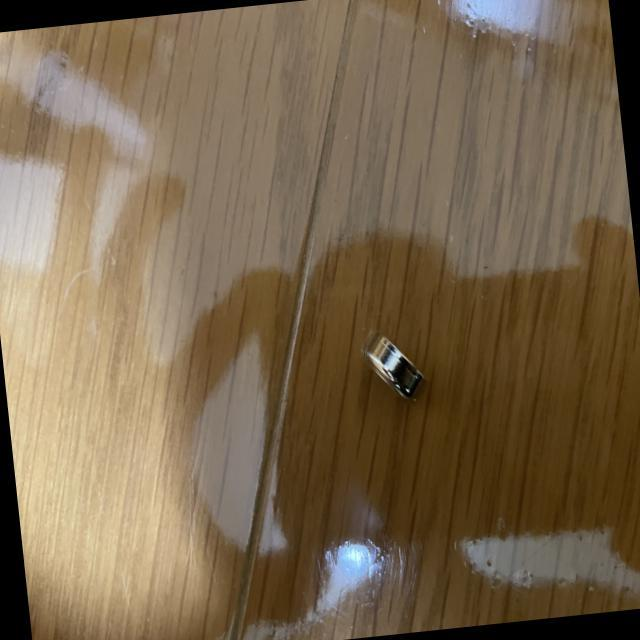COIN: (358, 322, 425, 404)
